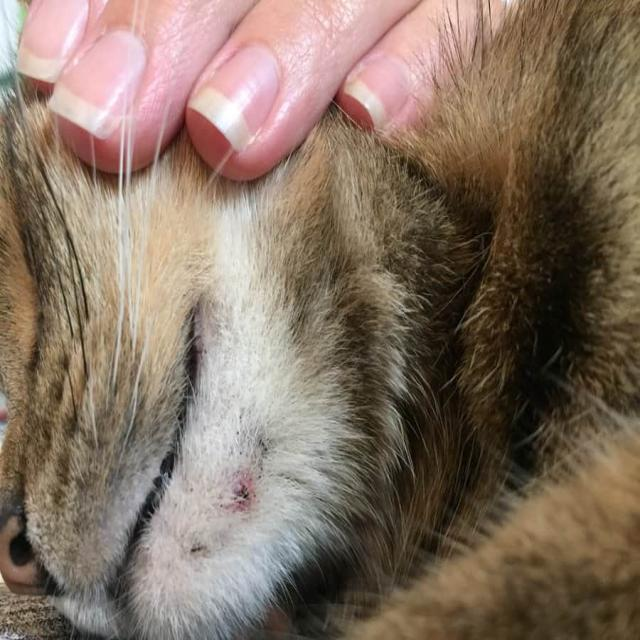cat-dermatitis: (230, 473, 258, 514)
